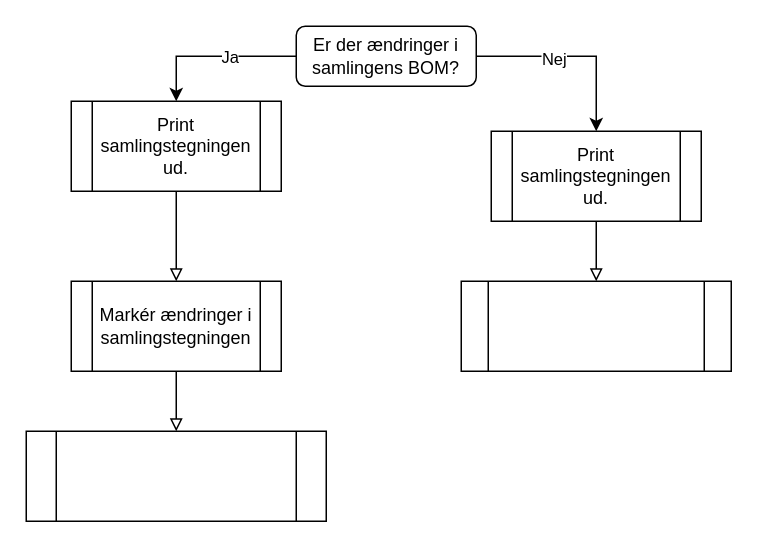
Image size: 758x548. Some labels were removed from this diagram. The shapes that lost their labels are listed below. From the top down, each one's centre as x and y in pixels, then its label:
the point at 595,325: Sæt ny samlingstegning med opdateret Revision ind i tilhørende mappe.
the point at 175,475: Aflevér samlingstegning til indkøber, som skal købe ny(e) dele til BOM ind.
